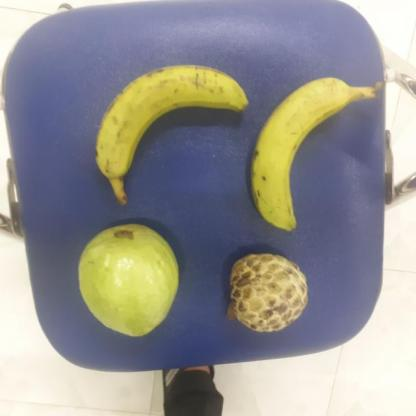annona: (221, 252, 308, 334)
banana: (90, 64, 243, 181), (246, 80, 353, 230)
guava: (71, 224, 178, 336)
